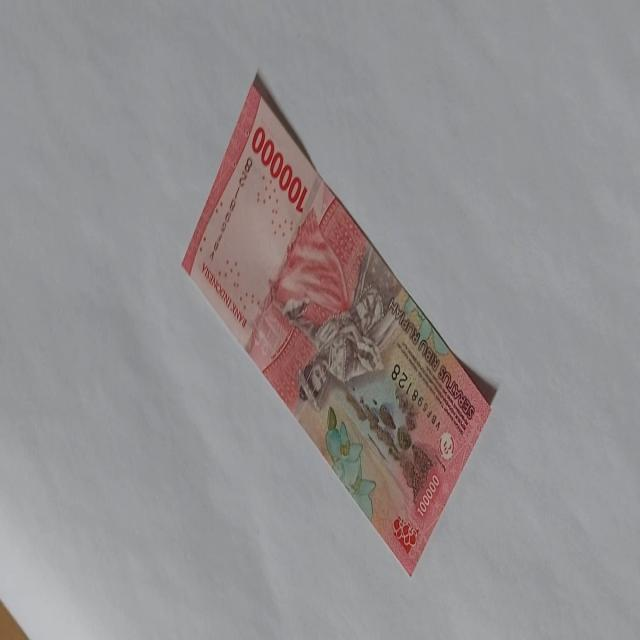seratus ribu rupiah: (181, 72, 494, 577)
